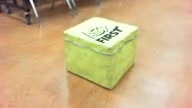cube: (63, 16, 140, 90)
